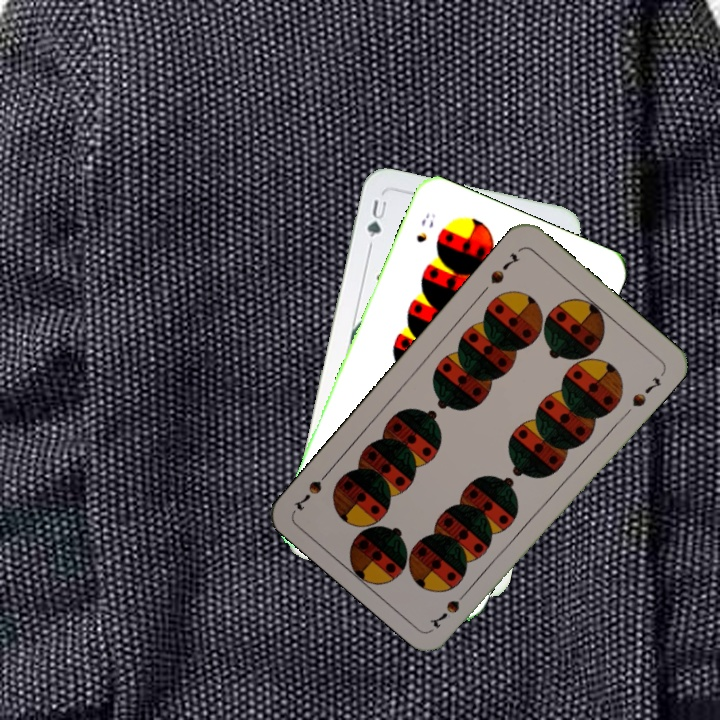GU: (363, 195, 389, 240)
S7: (486, 249, 523, 287), (442, 583, 473, 617)
S8: (412, 209, 438, 246)
